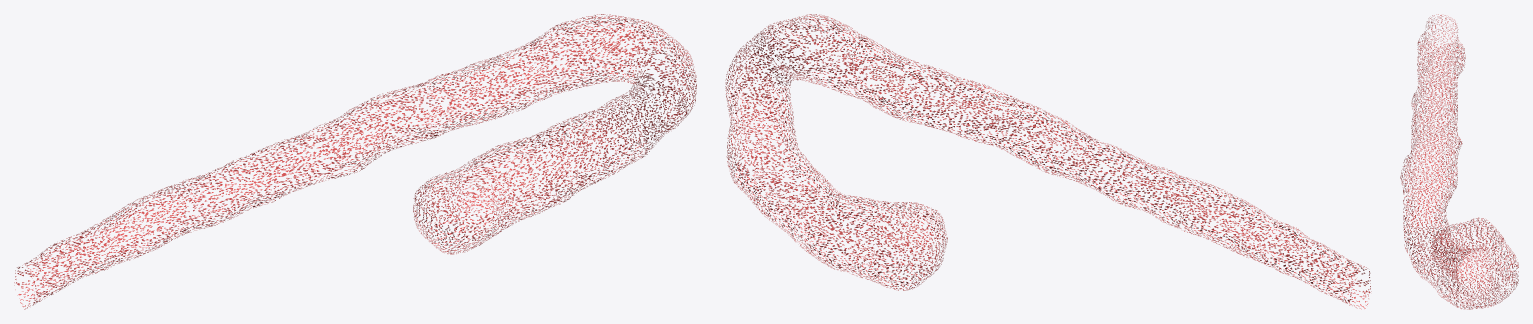
The model's file is aorta.glb.
3 views of the same model, side by side, from view 1: azimuth 30°, elevation 25°; view 2: azimuth 150°, elevation 25°; view 3: azimuth 270°, elevation 25° (orthographic). The views are drawn at different scales.
Bounding box in the file's own units: 278 × 90.18 × 52.4.
